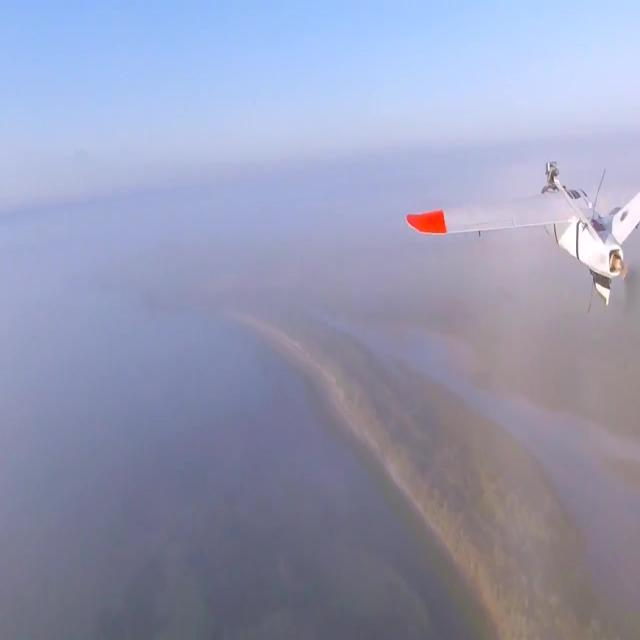iha: (398, 157, 634, 309)
